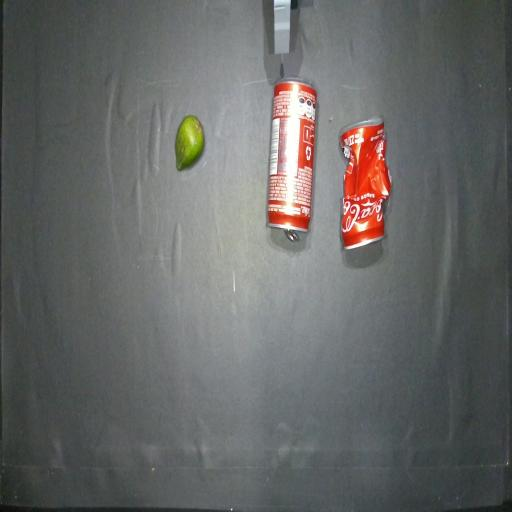higo: (175, 116, 204, 170)
lata: (267, 80, 317, 240)
lata_defectuoso: (340, 117, 391, 249)
